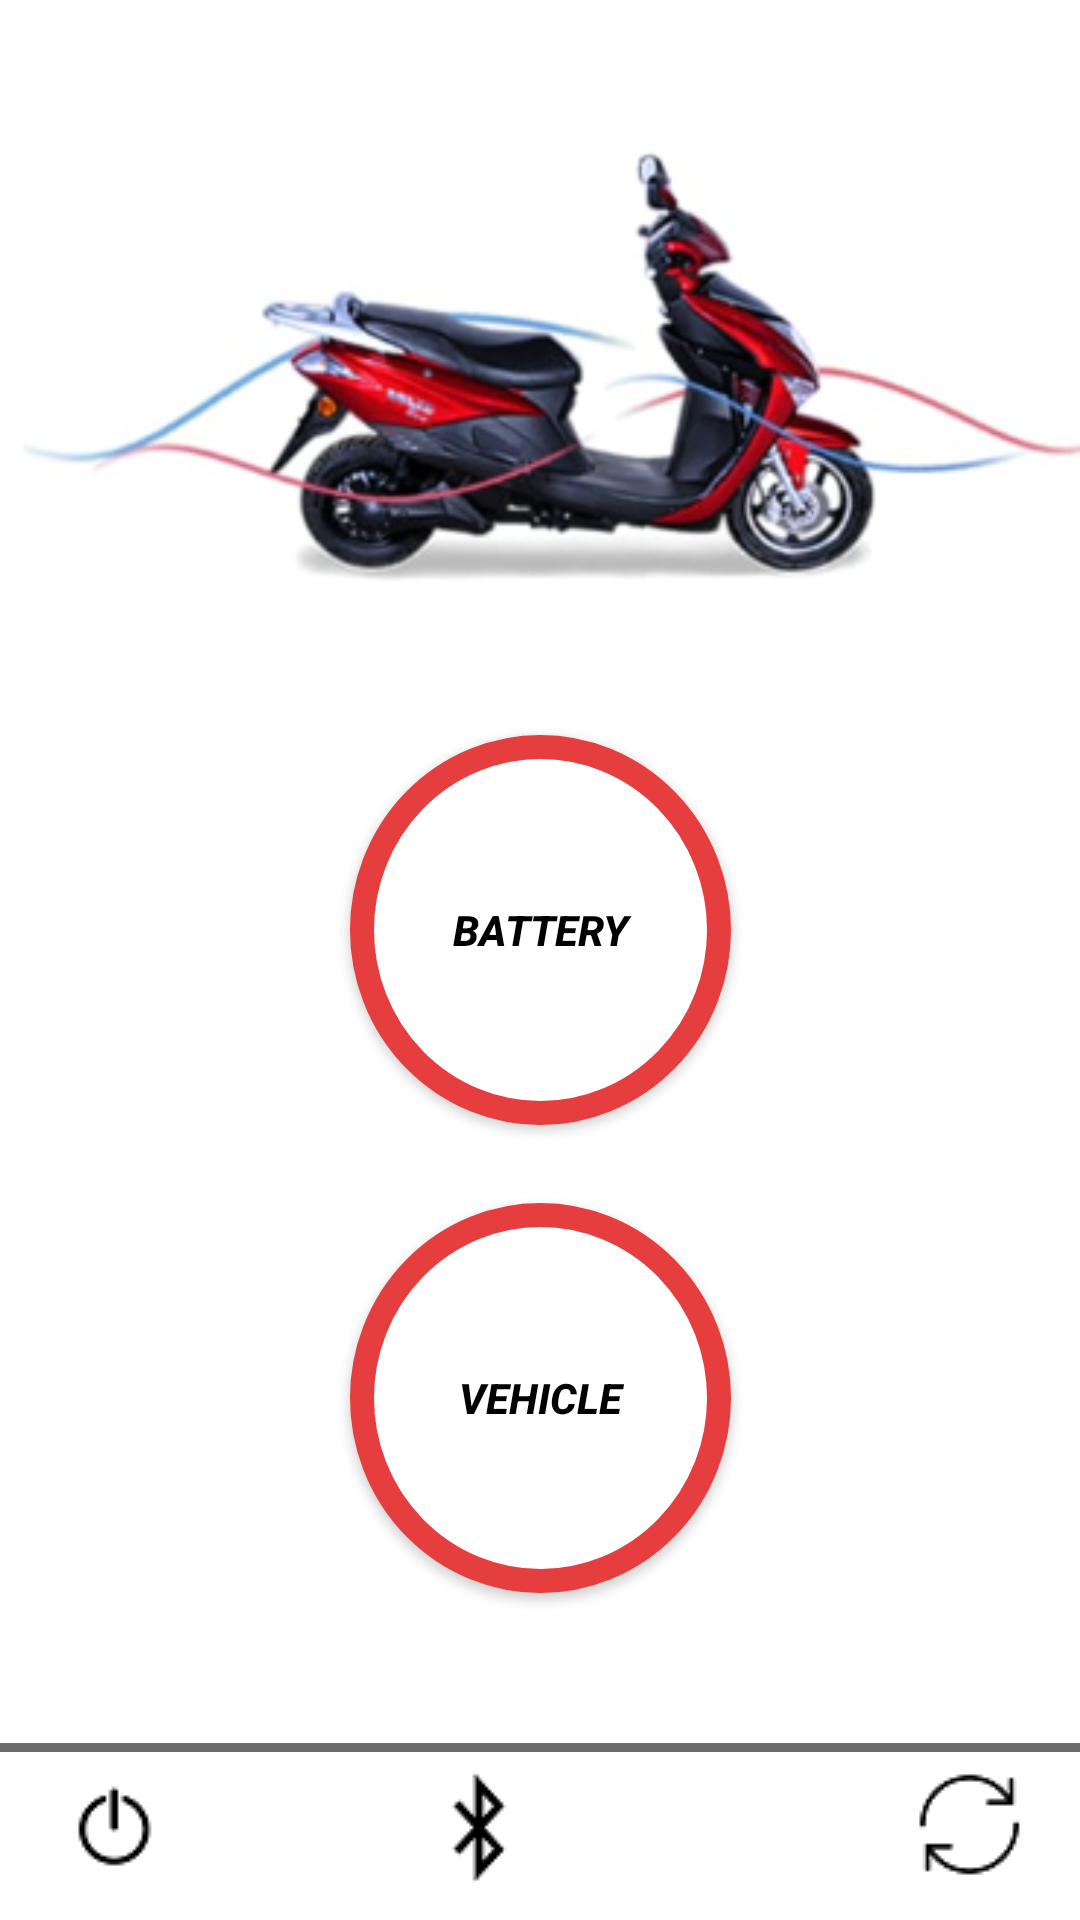

Icon bounding boxes for this 1080w x 1920h phone screenshot, format (x1,y1,x2,y2):
power: (78,1786,152,1866)
